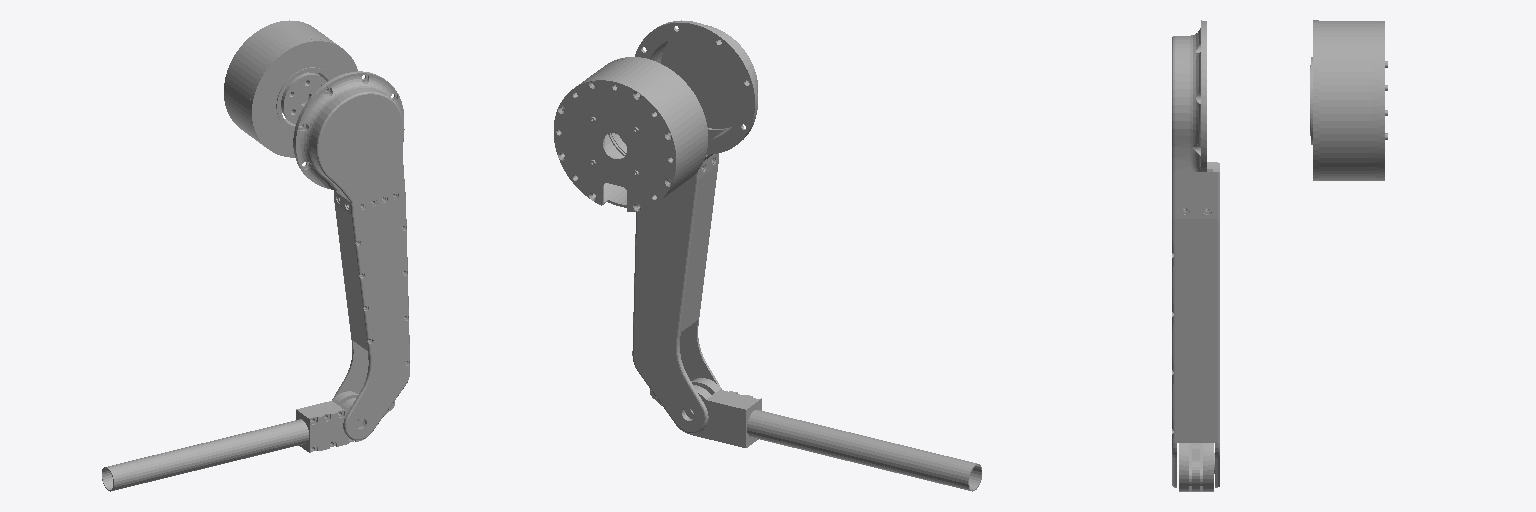
robot.urdf — Leg:
<?xml version="1.0" ?>
<robot name="Leg">

<material name="silver">
  <color rgba="0.700 0.700 0.700 1.000"/>
</material>

<link name="base_link">
  <inertial>
    <origin rpy="0 0 0" xyz="-0.04286515375447262 0.034667099417527505 0.2727933196007633"/>
    <mass value="700.087381218913908"/>
    <inertia ixx="1.2103659049128583" ixy="-0.010479469441884074" ixz="-0.015200771845420832" iyy="0.7568347193957309" iyz="0.06179568302961073" izz="0.5869748924777652"/>
  </inertial>
  <visual>
    <origin rpy="0 0 0" xyz="0 0 0"/>
    <geometry>
      <mesh filename="meshes/base_link.stl" scale="0.001 0.001 0.001"/>
    </geometry>
    <material name="silver"/>
  </visual>
  <collision>
    <origin rpy="0 0 0" xyz="0 0 0"/>
    <geometry>
      <mesh filename="meshes/base_link.stl" scale="0.001 0.001 0.001"/>
    </geometry>
  </collision>
</link>

<link name="HFE_Actuator1">
  <inertial>
    <origin rpy="0 0 0" xyz="0.020090606278027796 1.1368775533237852e-05 -0.0003192040040483901"/>
    <mass value="0.7810510004823594"/>
    <inertia ixx="0.0016437432732659685" ixy="2.3787591764818823e-07" ixz="2.5953809840491976e-06" iyy="0.000960102374603089" iyz="1.5892967806502138e-08" izz="0.0009409226920320034"/>
  </inertial>
  <visual>
    <origin rpy="0 0 0" xyz="-0.02 -0.000173 -0.470025"/>
    <geometry>
      <mesh filename="meshes/HFE_Actuator1.stl" scale="0.001 0.001 0.001"/>
    </geometry>
    <material name="silver"/>
  </visual>
  <collision>
    <origin rpy="0 0 0" xyz="-0.02 -0.000173 -0.470025"/>
    <geometry>
      <mesh filename="meshes/HFE_Actuator1.stl" scale="0.001 0.001 0.001"/>
    </geometry>
  </collision>
</link>

<link name="KFE_Actuaor1">
  <inertial>
    <origin rpy="0 0 0" xyz="0.03649614210210746 0.00036815712221813105 0.000416109851651858"/>
    <mass value="0.8552943466477122"/>
    <inertia ixx="0.001741088073367425" ixy="7.0815373175880285e-06" ixz="1.7513876422001196e-05" iyy="0.0010633747722278986" iyz="1.00580599395007e-07" izz="0.0010632034634898927"/>
  </inertial>
  <visual>
    <origin rpy="0 0 0" xyz="-0.063 -0.000173 -0.470025"/>
    <geometry>
      <mesh filename="meshes/KFE_Actuaor1.stl" scale="0.001 0.001 0.001"/>
    </geometry>
    <material name="silver"/>
  </visual>
  <collision>
    <origin rpy="0 0 0" xyz="-0.063 -0.000173 -0.470025"/>
    <geometry>
      <mesh filename="meshes/KFE_Actuaor1.stl" scale="0.001 0.001 0.001"/>
    </geometry>
  </collision>
</link>

<link name="Upper_Leg1">
  <inertial>
    <origin rpy="0 0 0" xyz="0.01733321405565416 -9.729819741887883e-05 -0.10592352500816093"/>
    <mass value="0.48935201093235564"/>
    <inertia ixx="0.004410723083100282" ixy="-3.408301039446008e-08" ixz="-3.7287894585340264e-05" iyy="0.004234924211716035" iyz="-3.5969845314219888e-06" izz="0.00029972247824181994"/>
  </inertial>
  <visual>
    <origin rpy="0 0 0" xyz="-0.123 -0.000375 -0.470025"/>
    <geometry>
      <mesh filename="meshes/Upper_Leg1.stl" scale="0.001 0.001 0.001"/>
    </geometry>
    <material name="silver"/>
  </visual>
  <collision>
    <origin rpy="0 0 0" xyz="-0.123 -0.000375 -0.470025"/>
    <geometry>
      <mesh filename="meshes/Upper_Leg1.stl" scale="0.001 0.001 0.001"/>
    </geometry>
  </collision>
</link>

<link name="Lower_Leg1">
  <inertial>
    <origin rpy="0 0 0" xyz="-1.4589471825088296e-08 -0.06151218577282326 0.11318829636588351"/>
    <mass value="0.2652192384089546"/>
    <inertia ixx="0.002460258515818818" ixy="-3.8620693969260156e-10" ixz="4.6071236409206406e-10" iyy="0.0017835417524496126" iyz="0.0010505447427862531" izz="0.0006955399706778231"/>
  </inertial>
  <visual>
    <origin rpy="0 0 0" xyz="-0.1395 -0.000119 -0.190025"/>
    <geometry>
      <mesh filename="meshes/Lower_Leg1.stl" scale="0.001 0.001 0.001"/>
    </geometry>
    <material name="silver"/>
  </visual>
  <collision>
    <origin rpy="0 0 0" xyz="-0.1395 -0.000119 -0.190025"/>
    <geometry>
      <mesh filename="meshes/Lower_Leg1.stl" scale="0.001 0.001 0.001"/>
    </geometry>
  </collision>
</link>

<link name="Slider_Plate1">
  <inertial>
    <origin rpy="0 0 0" xyz="-0.0014706845703063385 0.00030798756510659034 -3.4098044326968946e-07"/>
    <mass value="0.22856712723152553"/>
    <inertia ixx="0.0006014764758451724" ixy="-5.0920081315763624e-08" ixz="-2.168404344971009e-19" iyy="0.00030091688848923187" iyz="-1.2638409199391964e-16" izz="0.0003018984205997719"/>
  </inertial>
  <visual>
    <origin rpy="0 0 0" xyz="0.005 -0.000173 -0.470025"/>
    <geometry>
      <mesh filename="meshes/Slider_Plate1.stl" scale="0.001 0.001 0.001"/>
    </geometry>
    <material name="silver"/>
  </visual>
  <collision>
    <origin rpy="0 0 0" xyz="0.005 -0.000173 -0.470025"/>
    <geometry>
      <mesh filename="meshes/Slider_Plate1.stl" scale="0.001 0.001 0.001"/>
    </geometry>
  </collision>
</link>

<joint name="slider_to_hip" type="fixed">
  <origin rpy="0 0 0" xyz="0.025 0.0 0.0"/>
  <parent link="Slider_Plate1"/>
  <child link="HFE_Actuator1"/>
</joint>

<joint name="j_hfe" type="continuous">
  <origin rpy="0 0 0" xyz="0.043 0.0 0.0"/>
  <parent link="HFE_Actuator1"/>
  <child link="KFE_Actuaor1"/>
  <axis xyz="1.0 0.0 -0.0"/>
</joint>

<joint name="hfe_to_upper" type="fixed">
  <origin rpy="0 0 0" xyz="0.06 0.000202 0.0"/>
  <parent link="KFE_Actuaor1"/>
  <child link="Upper_Leg1"/>
</joint>

<joint name="j_kfe" type="continuous">
  <origin rpy="0 0 0" xyz="0.0165 -0.000256 -0.28"/>
  <parent link="Upper_Leg1"/>
  <child link="Lower_Leg1"/>
  <axis xyz="-1.0 -0.0 0.0"/>
</joint>

<joint name="slider" type="prismatic">
  <origin rpy="0 0 0" xyz="-0.005 0.000173 0.470025"/>
  <parent link="base_link"/>
  <child link="Slider_Plate1"/>
  <axis xyz="0.0 -0.0 -1.0"/>
  <limit effort="100" lower="0.0" upper="0.0" velocity="100"/>
</joint>
</robot>

--- Facts derived from the render (not from the file) ---
The picture shows the robot from 3 angles, left to right: view 1: azimuth 30°, elevation 25°; view 2: azimuth 150°, elevation 25°; view 3: azimuth 270°, elevation 25°; orthographic projection.
Robot: Leg — 6 links, 5 joints (2 continuous, 1 prismatic, 2 fixed); root link base_link; default pose: every joint at zero.
Links seen in each view (by area): view 1: Upper_Leg1, HFE_Actuator1, Lower_Leg1; view 2: Upper_Leg1, HFE_Actuator1, Lower_Leg1; view 3: Upper_Leg1, HFE_Actuator1, Lower_Leg1.
Boxes of the visible links, x1,y1,x2,y2 form: Upper_Leg1: [293, 71, 409, 439]; HFE_Actuator1: [224, 20, 357, 157]; Lower_Leg1: [102, 391, 394, 491]; Upper_Leg1: [632, 20, 757, 433]; HFE_Actuator1: [554, 57, 707, 211]; Lower_Leg1: [650, 378, 981, 491]; Upper_Leg1: [1172, 20, 1219, 487]; HFE_Actuator1: [1310, 20, 1387, 180]; Lower_Leg1: [1179, 443, 1213, 491].
Bounding box of the posed robot: 0.275 × 0.1347 × 0.3175 m (x, y, z).
Meshes: 6 distinct files referenced, 3 mesh visuals loaded (3 binary STL); not drawn: 3 (reference not matched to a file when rendering).